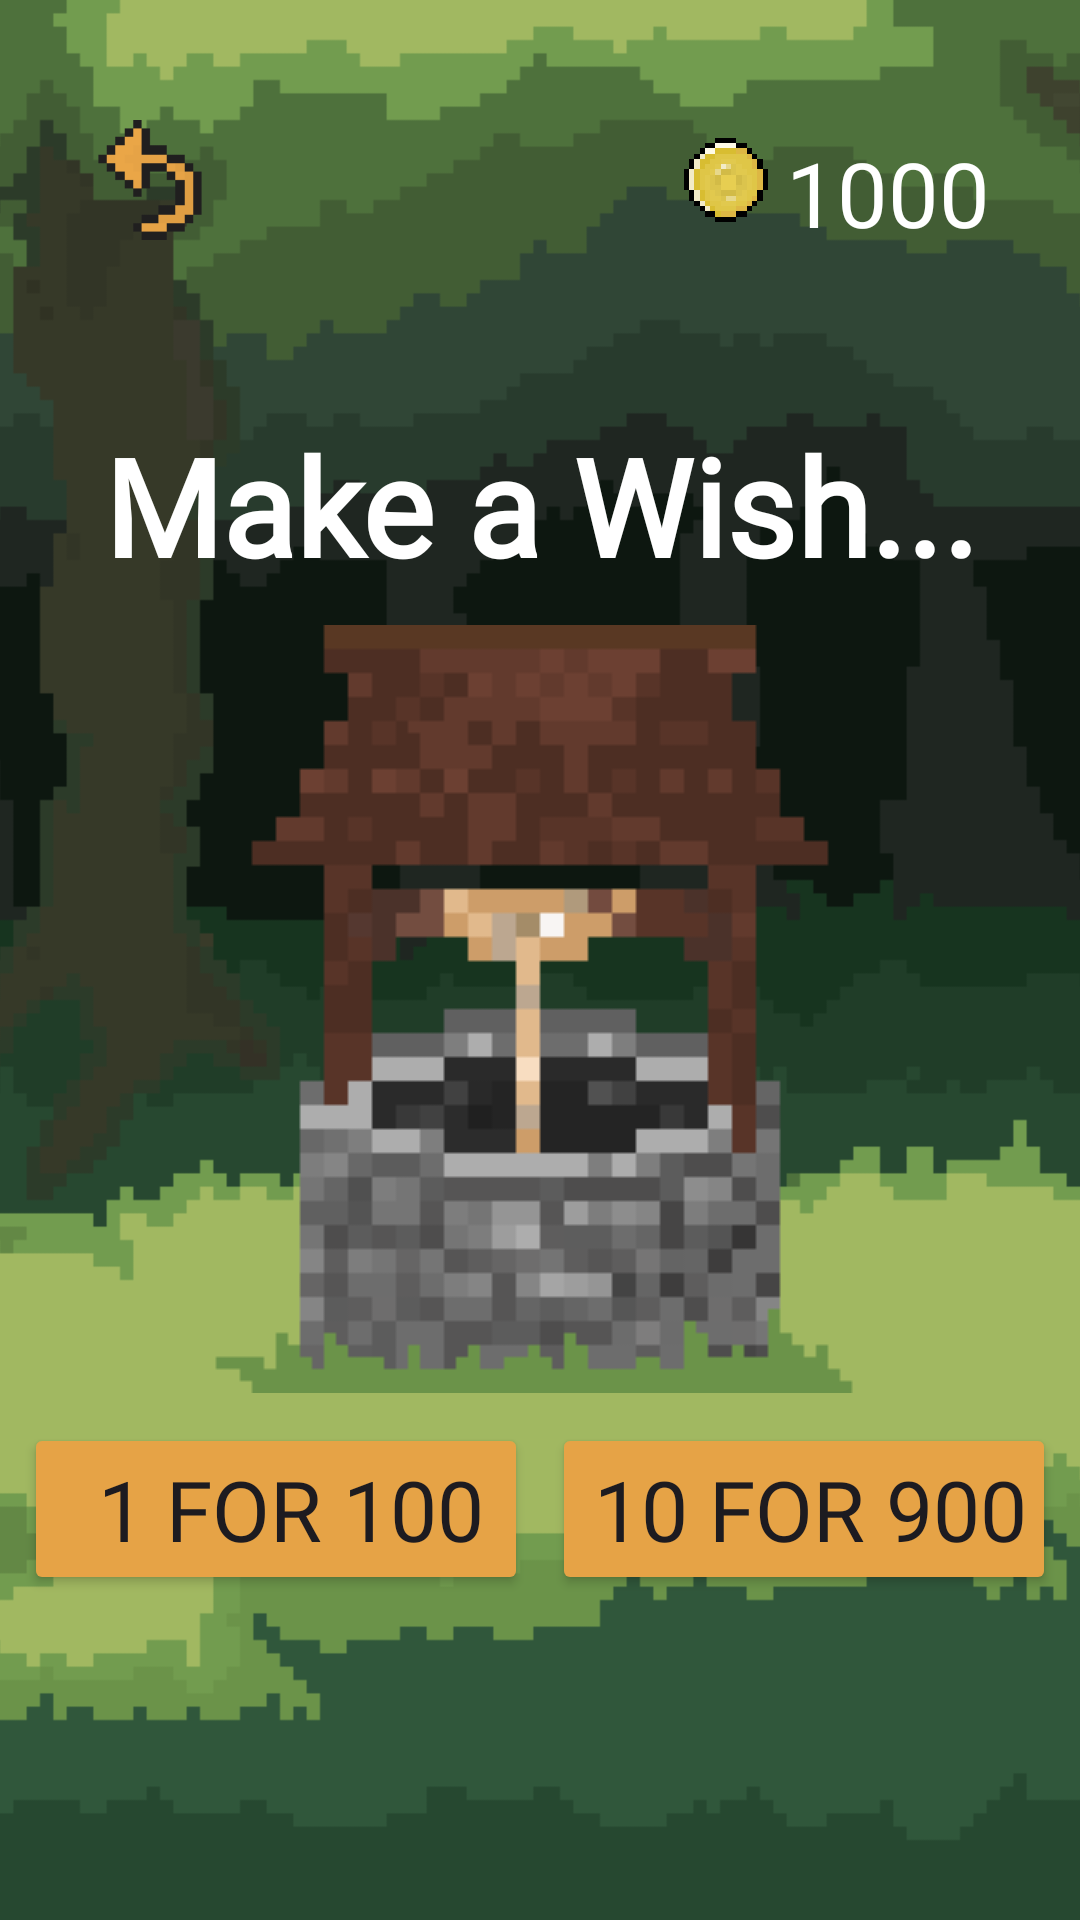

Named icons in this screenshot (1080px x 1920px) and their centers, [x,y]:
back: [150,180]
coin: [726,180]
